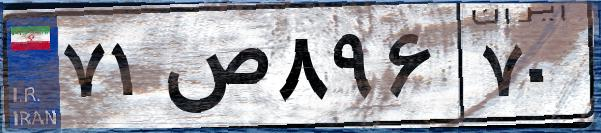0: (525, 38, 570, 115)
1: (110, 28, 158, 98)
6: (385, 28, 445, 110)
7: (57, 26, 110, 100), (475, 38, 525, 113)
8: (270, 28, 330, 110)
9: (330, 28, 385, 110)
ص: (158, 20, 270, 120)
